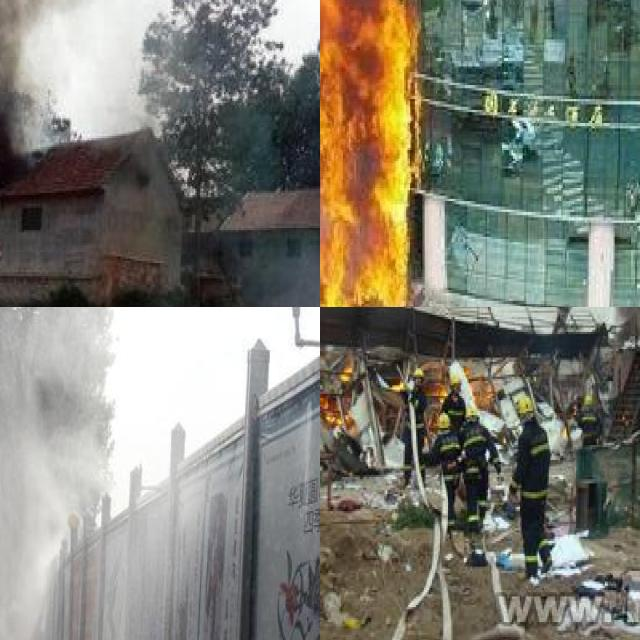fire: (320, 0, 421, 307), (320, 359, 353, 423), (338, 358, 353, 381), (434, 379, 446, 398)
smoke: (0, 0, 248, 218), (25, 422, 99, 506), (0, 401, 41, 548), (0, 509, 46, 629), (259, 239, 320, 307)
